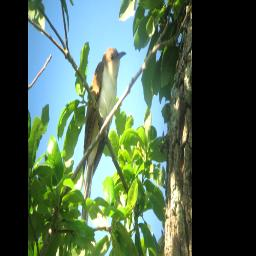Cuckoo: (79, 45, 128, 232)
